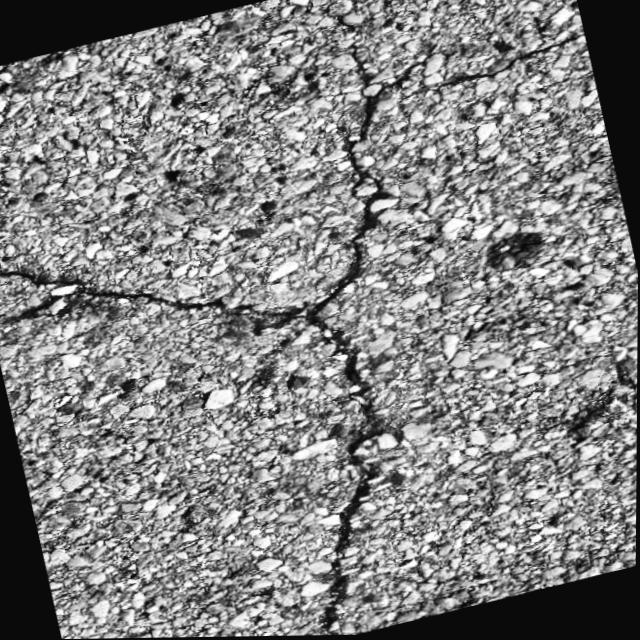cracks: (309, 82, 402, 632), (0, 269, 223, 310), (255, 285, 341, 332), (234, 289, 309, 313)
